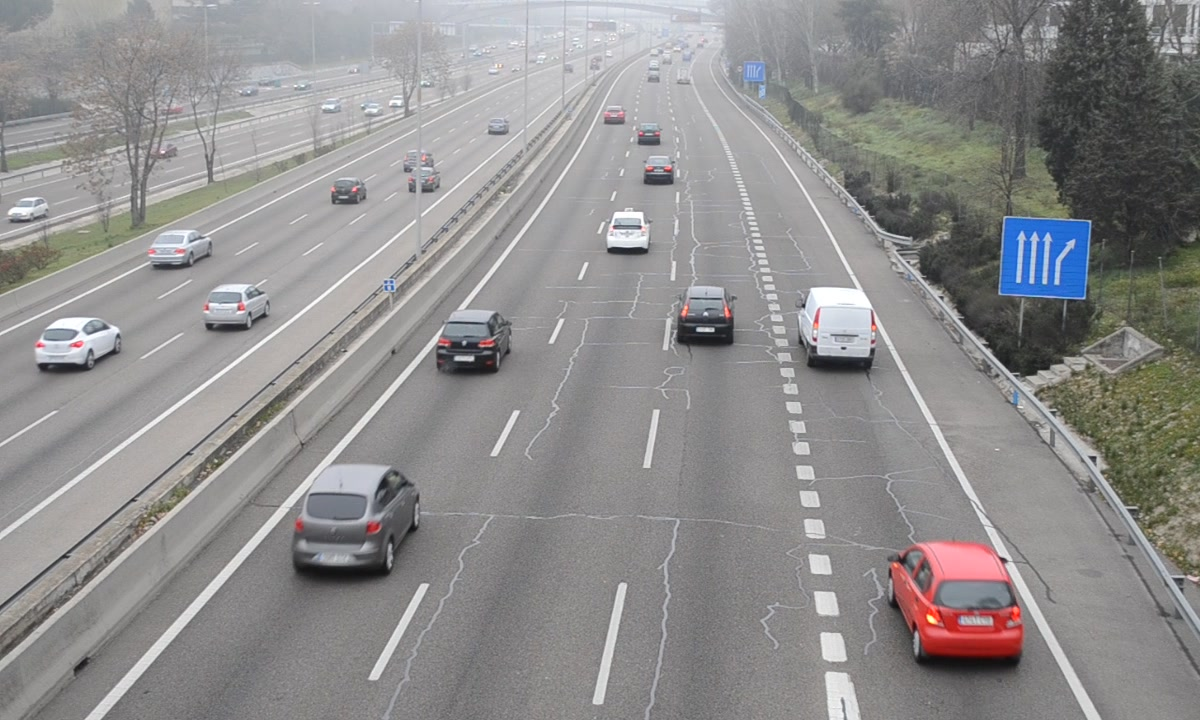car: (890, 540, 1025, 661), (290, 465, 419, 573), (434, 308, 513, 370), (677, 284, 734, 345), (606, 209, 650, 252), (643, 154, 676, 185), (637, 121, 660, 145)
van: (801, 287, 877, 367)
